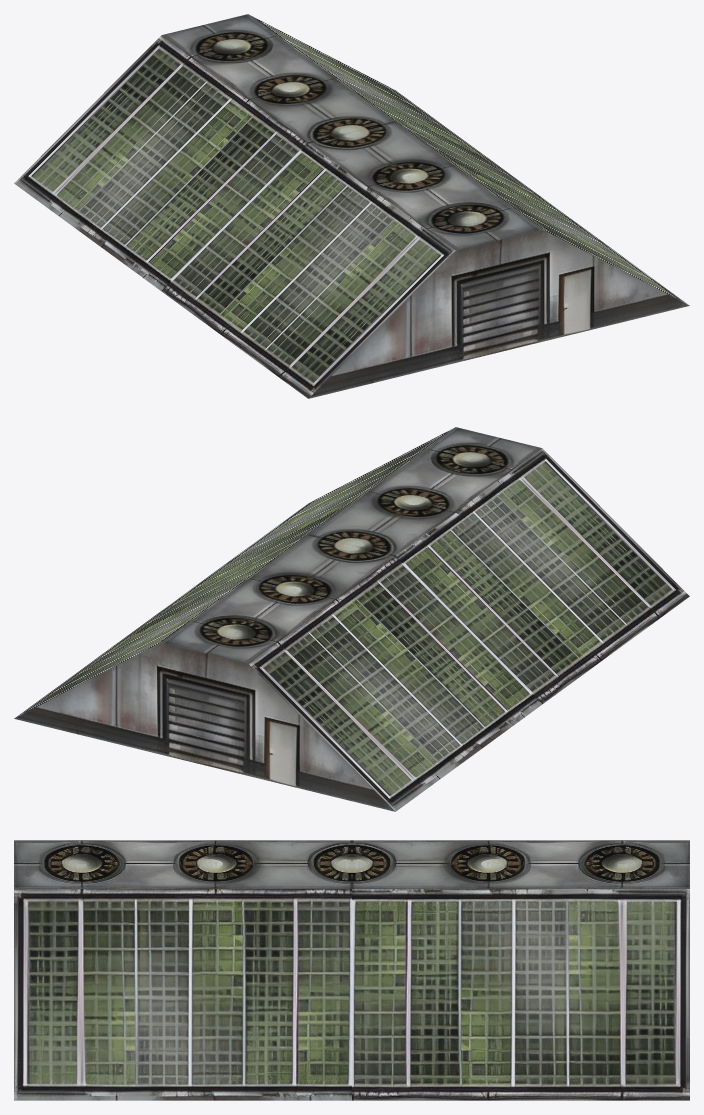
The model's file is greenhouse_hdtex.glb.
3 renders of one model, top to bottom at view 1: azimuth 30°, elevation 25°; view 2: azimuth 150°, elevation 25°; view 3: azimuth 270°, elevation 25°, orthographic. The views are drawn at different scales.
Visible parts, largest first — view 1: GreenHouse; view 2: GreenHouse; view 3: GreenHouse.
Boxes of the visible parts, x1,y1,x2,y2 form: GreenHouse: [14, 14, 689, 398]; GreenHouse: [14, 427, 689, 811]; GreenHouse: [14, 840, 689, 1100].
Size of the model in its own units: 13.8 by 3.88 by 18.44.
Materials: 1 (1 with a texture image).
